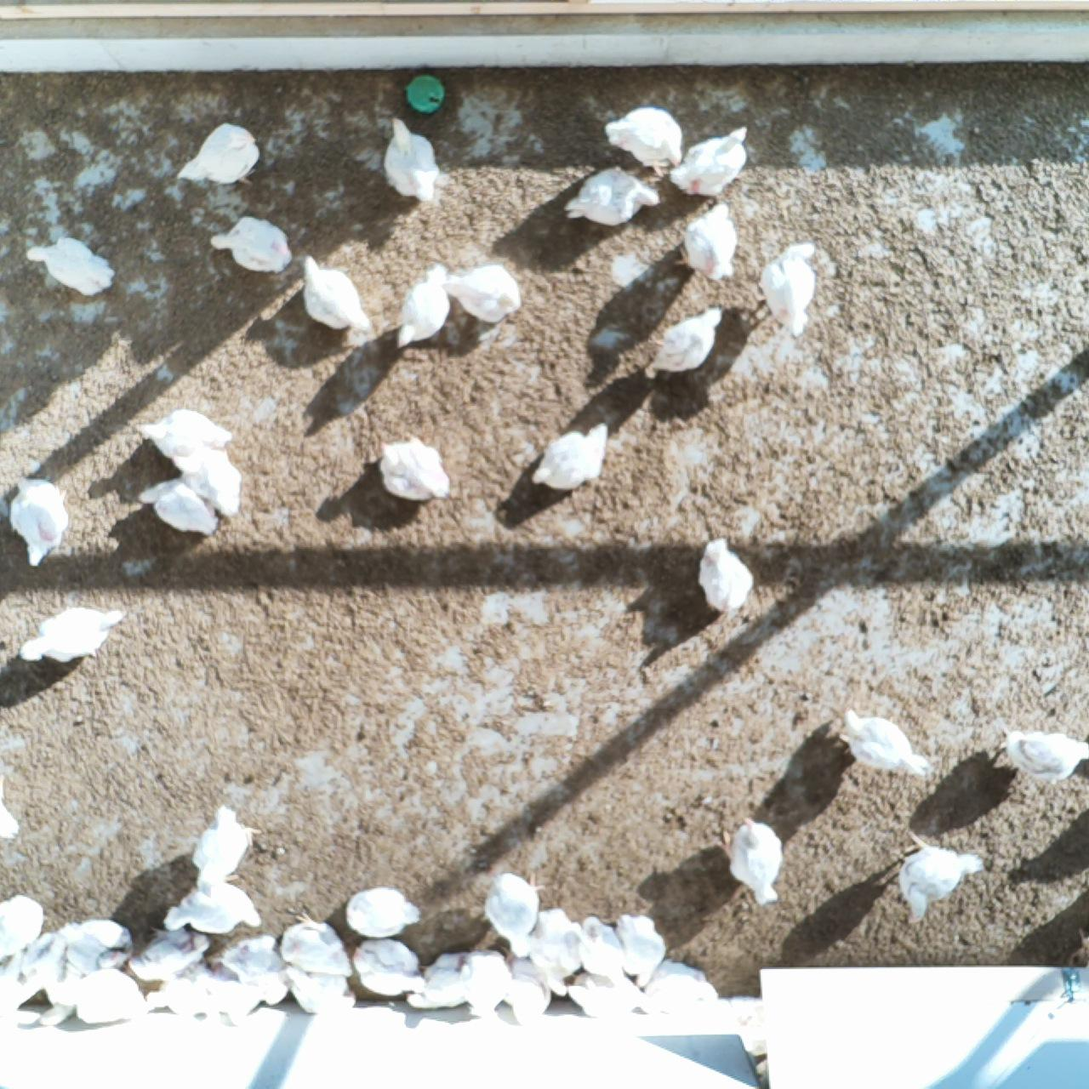chicken: (894, 825, 990, 925), (22, 602, 131, 671), (184, 800, 264, 888), (48, 968, 157, 1030), (668, 122, 756, 198), (159, 876, 265, 939), (563, 163, 665, 228), (838, 705, 929, 777), (714, 816, 785, 906), (22, 234, 117, 301), (757, 239, 821, 337), (175, 118, 263, 189), (131, 406, 233, 467), (373, 429, 458, 502), (6, 472, 72, 566), (388, 259, 455, 351), (299, 254, 373, 337), (604, 102, 684, 178), (671, 198, 742, 282), (523, 908, 584, 1003), (531, 420, 611, 492), (0, 928, 64, 1018), (169, 446, 246, 520), (645, 302, 726, 372), (482, 869, 546, 957), (561, 959, 647, 1024), (694, 533, 761, 616), (379, 114, 441, 203), (1000, 719, 1086, 783), (441, 260, 522, 326), (50, 914, 138, 974), (136, 476, 223, 535), (209, 213, 295, 272), (639, 957, 722, 1018), (276, 915, 355, 979), (349, 932, 427, 995), (129, 923, 210, 981), (278, 962, 362, 1017), (615, 911, 671, 993), (570, 912, 627, 991), (192, 962, 263, 1025), (404, 953, 477, 1014), (220, 937, 288, 1002), (140, 963, 216, 1021), (343, 884, 427, 936), (458, 940, 511, 1022), (498, 951, 551, 1029), (0, 890, 48, 957), (729, 994, 769, 1061), (0, 772, 21, 841)
